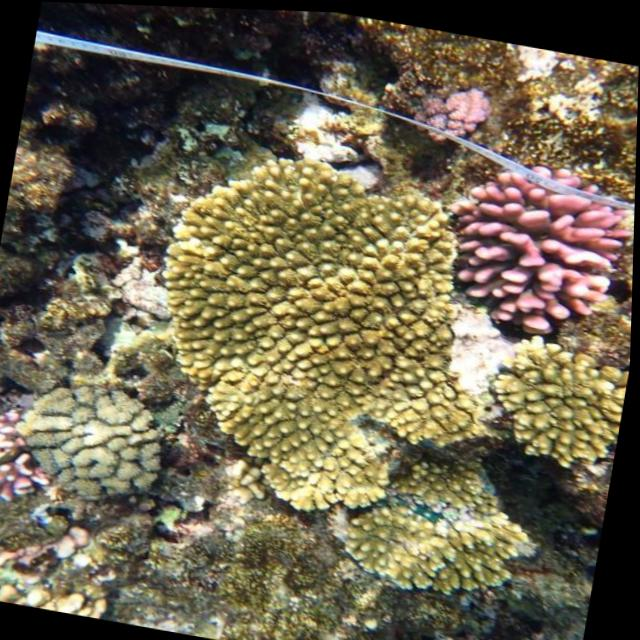Bleached Coral: (415, 288, 541, 428), (270, 89, 400, 202), (480, 36, 621, 134), (104, 257, 191, 337)
Healthy Coral: (156, 161, 454, 510), (435, 136, 637, 333), (341, 493, 538, 605), (514, 322, 633, 493), (418, 78, 487, 148)
